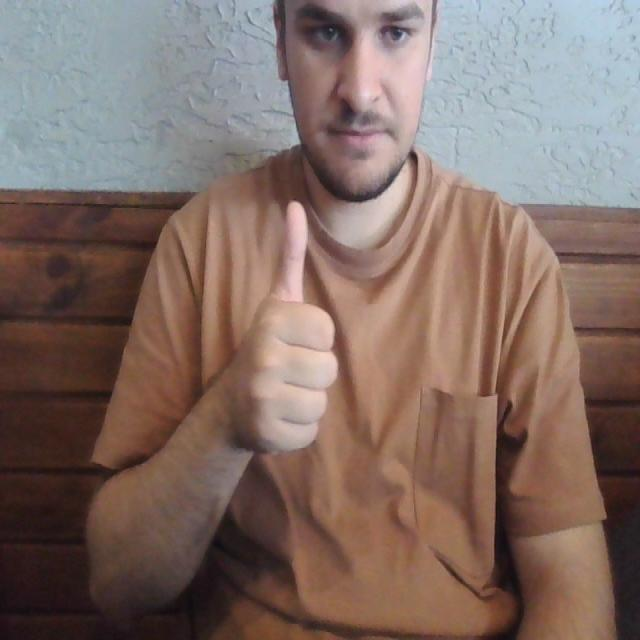Tamam: (219, 190, 351, 463)
